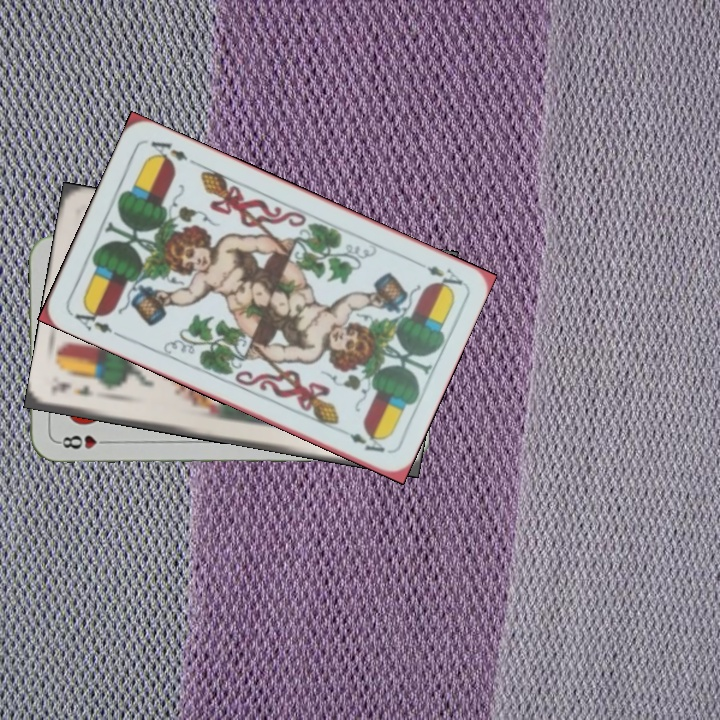EA: (67, 302, 124, 340), (422, 261, 465, 293)
EK: (53, 378, 96, 398)
H8: (54, 431, 113, 451)
